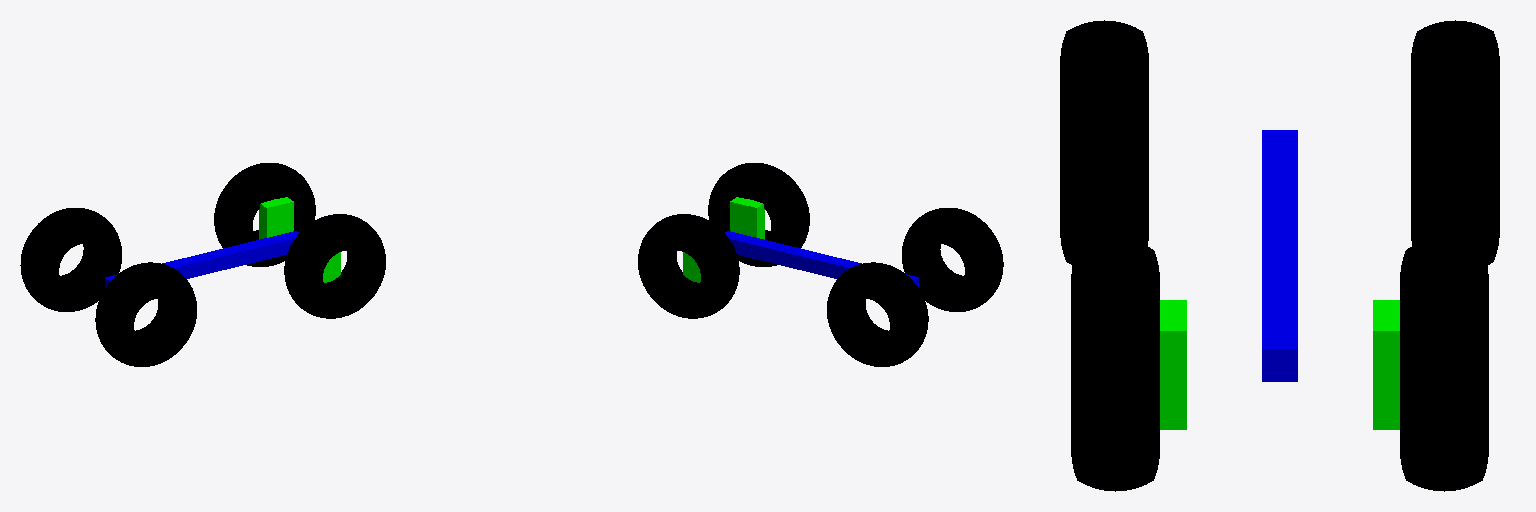
URDF robot description (quad):
<?xml version="1.0" ?>
<!-- =================================================================================== -->
<!-- |    This document was autogenerated by xacro from quad.xacro                     | -->
<!-- |    EDITING THIS FILE BY HAND IS NOT RECOMMENDED                                 | -->
<!-- =================================================================================== -->
<robot name="quad" xmlns:xacro="http://www.ros.org/wiki/xacro">
  <!--  -->
  xacro:include filename=&quot;/opt/ros/kinetic/share/hector_sensors_description/urdf/hokuyo_utm30lx.urdf.xacro&quot;/--&gt;
	
  <!-- This file unifies all sensors that can be used on simulation, defined as xacro:macros -->
  <material name="aluminum">
    <color rgba="0.5 0.5 0.5 1"/>
  </material>
  <!--xacro:include filename="$(find hector_sensors_description)/urdf/generic_camera.urdf.xacro"/-->
  <!-- Physical Material Macros -->
  <material name="Red">
    <color rgba="1.0 0 0 1.0"/>
  </material>
  <material name="Green">
    <color rgba="0 1.0 0 1.0"/>
  </material>
  <material name="Blue">
    <color rgba="0 0 1.0 0.5"/>
  </material>
  <material name="Black">
    <color rgba="0 0 0 1.0"/>
  </material>
  <material name="Aqua">
    <color rgba="0 255 255 1.0"/>
  </material>
  <gazebo>
    <plugin filename="libgazebo_ros_control.so" name="gazebo_ros_control">
      <robotNamespace>/quad</robotNamespace>
    </plugin>
  </gazebo>
  <link name="base_footprint">
    <visual>
      <origin rpy="0 0 0" xyz="0 0 0"/>
      <geometry>
        <box size="0.001 0.001 0.001"/>
      </geometry>
    </visual>
  </link>
  <joint name="base_footprint_joint" type="fixed">
    <origin rpy="0 0 0" xyz="-0.707 0 -0.173"/>
    <!-- height is the clearance -->
    <parent link="base_footprint"/>
    <child link="base_link"/>
  </joint>
  <!-- base_link must have geometry so that its axes can be displayed in rviz. -->
  <!-- Chassis -->
  <link name="base_link">
    <inertial>
      <mass value="0.270"/>
      <origin rpy="0 0 0" xyz="0 0 0"/>
      <inertia ixx="2.632e-4" ixy="0" ixz="0" iyy="2.632e-4" iyz="0" izz="1.62e-4"/>
    </inertial>
    <visual>
      <origin rpy="0 0 0" xyz="-0.3535 0 0"/>
      <geometry>
        <box size="0.707 0.05 0.05"/>
      </geometry>
      <material name="Blue"/>
    </visual>
    <collision>
      <origin rpy="0 0 0" xyz="-0.3535 0 0"/>
      <geometry>
        <box size="0.707 0.05 0.05"/>
      </geometry>
    </collision>
  </link>
  <gazebo reference="base_link">
    <material>Gazebo/Blue</material>
  </gazebo>
  <!-- Base footprint is on the ground under the robot -->
  <!--link name="base_footprint"/>
	 <joint name="base_footprint_joint" type="fixed">
	  <origin xyz="${-wheelbase} 0 ${-wheelRadius}" rpy="0 0 0" />
	  <parent link="base_link" />
	  <child link="base_footprint" />
	 </joint-->
  <!-- IMU -->
  <link name="imu_link"/>
  <joint name="imu_joint" type="fixed">
    <origin rpy="0 0 0" xyz="-0.3535 0 0"/>
    <parent link="base_link"/>
    <child link="imu_link"/>
  </joint>
  <!-- Camera -->
  <link name="camera_link"/>
  <joint name="camera_joint" type="fixed">
    <origin rpy="0 0 0" xyz="0 0 0.2"/>
    <parent link="base_link"/>
    <child link="camera_link"/>
  </joint>
  <joint name="RL_wheel_joint" type="continuous">
    <axis xyz="0 1 0"/>
    <parent link="base_link"/>
    <child link="RL_wheel"/>
    <origin rpy="0 0 0" xyz="-0.707 0.24 0"/>
  </joint>
  <link name="RL_wheel">
    <inertial>
      <mass value="0.270"/>
      <origin rpy="0 0 0" xyz="0 0 0"/>
      <inertia ixx="2.632e-4" ixy="0" ixz="0" iyy="2.632e-4" iyz="0" izz="1.62e-4"/>
    </inertial>
    <visual>
      <origin rpy="0 0 1.57079633" xyz="0 0 0"/>
      <geometry>
        <mesh filename="package://quad_description/meshes/Tyre_13x5-6.STL"/>
      </geometry>
      <material name="Black"/>
    </visual>
    <collision>
      <origin rpy="1.57079633 0 0" xyz="0 0 0"/>
      <geometry>
        <cylinder length="0.122" radius="0.173"/>
      </geometry>
    </collision>
  </link>
  <gazebo reference="RL_wheel">
    <material>Gazebo/Black</material>
  </gazebo>
  <joint name="RR_wheel_joint" type="continuous">
    <axis xyz="0 1 0"/>
    <parent link="base_link"/>
    <child link="RR_wheel"/>
    <origin rpy="0 0 0" xyz="-0.707 -0.24 0"/>
  </joint>
  <link name="RR_wheel">
    <inertial>
      <mass value="0.270"/>
      <origin rpy="0 0 0" xyz="0 0 0"/>
      <inertia ixx="2.632e-4" ixy="0" ixz="0" iyy="2.632e-4" iyz="0" izz="1.62e-4"/>
    </inertial>
    <visual>
      <origin rpy="0 0 1.57079633" xyz="0 0 0"/>
      <geometry>
        <mesh filename="package://quad_description/meshes/Tyre_13x5-6.STL"/>
      </geometry>
      <material name="Black"/>
    </visual>
    <collision>
      <origin rpy="1.57079633 0 0" xyz="0 0 0"/>
      <geometry>
        <cylinder length="0.122" radius="0.173"/>
      </geometry>
    </collision>
  </link>
  <gazebo reference="RR_wheel">
    <material>Gazebo/Black</material>
  </gazebo>
  <joint name="FL_upright_joint" type="revolute">
    <limit effort="100" lower="-0.5" upper="0.5" velocity="10"/>
    <axis xyz="0 0 1"/>
    <parent link="base_link"/>
    <child link="FL_upright"/>
    <origin rpy="0 0 0" xyz="0 0.1525 0"/>
  </joint>
  <link name="FL_upright">
    <inertial>
      <mass value="0.270"/>
      <origin rpy="0 0 0" xyz="0 0 0"/>
      <inertia ixx="2.632e-4" ixy="0" ixz="0" iyy="2.632e-4" iyz="0" izz="1.62e-4"/>
    </inertial>
    <visual>
      <origin xyz="0 0 0"/>
      <geometry>
        <box size="0.1 0.05 0.15"/>
      </geometry>
      <material name="Green"/>
    </visual>
    <!--collision>
            <origin xyz="0 0 0" />
            <geometry>
                <box size="0.1 0.05 0.15" />
            </geometry>
        </collision-->
  </link>
  <joint name="FL_wheel_joint" type="continuous">
    <axis xyz="0 1 0"/>
    <parent link="FL_upright"/>
    <child link="FL_wheel"/>
    <origin rpy="0 0 0" xyz="0 0.0725 0"/>
  </joint>
  <link name="FL_wheel">
    <inertial>
      <mass value="0.270"/>
      <origin rpy="0 0 0" xyz="0 0 0"/>
      <inertia ixx="2.632e-4" ixy="0" ixz="0" iyy="2.632e-4" iyz="0" izz="1.62e-4"/>
    </inertial>
    <visual>
      <origin rpy="0 0 1.57079633" xyz="0 0 0"/>
      <geometry>
        <mesh filename="package://quad_description/meshes/Tyre_13x5-6.STL"/>
      </geometry>
      <material name="Black"/>
    </visual>
    <collision>
      <origin rpy="1.57079633 0 0" xyz="0 0 0"/>
      <geometry>
        <cylinder length="0.122" radius="0.173"/>
      </geometry>
    </collision>
  </link>
  <gazebo reference="FL_wheel">
    <material>Gazebo/Black</material>
  </gazebo>
  <joint name="FR_upright_joint" type="revolute">
    <limit effort="100" lower="-0.5" upper="0.5" velocity="10"/>
    <axis xyz="0 0 1"/>
    <parent link="base_link"/>
    <child link="FR_upright"/>
    <origin rpy="0 0 0" xyz="0 -0.1525 0"/>
  </joint>
  <link name="FR_upright">
    <inertial>
      <mass value="0.270"/>
      <origin rpy="0 0 0" xyz="0 0 0"/>
      <inertia ixx="2.632e-4" ixy="0" ixz="0" iyy="2.632e-4" iyz="0" izz="1.62e-4"/>
    </inertial>
    <visual>
      <origin xyz="0 0 0"/>
      <geometry>
        <box size="0.1 0.05 0.15"/>
      </geometry>
      <material name="Green"/>
    </visual>
    <!--collision>
            <origin xyz="0 0 0" />
            <geometry>
                <box size="0.1 0.05 0.15" />
            </geometry>
        </collision-->
  </link>
  <joint name="FR_wheel_joint" type="continuous">
    <axis xyz="0 1 0"/>
    <parent link="FR_upright"/>
    <child link="FR_wheel"/>
    <origin rpy="0 0 0" xyz="0 -0.0725 0"/>
  </joint>
  <link name="FR_wheel">
    <inertial>
      <mass value="0.270"/>
      <origin rpy="0 0 0" xyz="0 0 0"/>
      <inertia ixx="2.632e-4" ixy="0" ixz="0" iyy="2.632e-4" iyz="0" izz="1.62e-4"/>
    </inertial>
    <visual>
      <origin rpy="0 0 1.57079633" xyz="0 0 0"/>
      <geometry>
        <mesh filename="package://quad_description/meshes/Tyre_13x5-6.STL"/>
      </geometry>
      <material name="Black"/>
    </visual>
    <collision>
      <origin rpy="1.57079633 0 0" xyz="0 0 0"/>
      <geometry>
        <cylinder length="0.122" radius="0.173"/>
      </geometry>
    </collision>
  </link>
  <gazebo reference="FR_wheel">
    <material>Gazebo/Black</material>
  </gazebo>
  <transmission name="FR_steering_trans">
    <type>transmission_interface/SimpleTransmission</type>
    <joint name="FR_upright_joint">
      <hardwareInterface>hardware_interface/EffortJointInterface</hardwareInterface>
    </joint>
    <actuator name="FR_steering_act">
      <mechanicalReduction>1</mechanicalReduction>
    </actuator>
  </transmission>
  <transmission name="FL_steering_trans">
    <type>transmission_interface/SimpleTransmission</type>
    <joint name="FL_upright_joint">
      <hardwareInterface>hardware_interface/EffortJointInterface</hardwareInterface>
    </joint>
    <actuator name="FL_steering_act">
      <mechanicalReduction>1</mechanicalReduction>
    </actuator>
  </transmission>
  <transmission name="RR_wheel_axle_trans">
    <type>transmission_interface/SimpleTransmission</type>
    <joint name="RR_wheel_joint">
      <hardwareInterface>hardware_interface/VelocityJointInterface</hardwareInterface>
    </joint>
    <actuator name="RR_wheel_axle_act">
      <mechanicalReduction>1</mechanicalReduction>
    </actuator>
  </transmission>
  <transmission name="RL_wheel_axle_trans">
    <type>transmission_interface/SimpleTransmission</type>
    <joint name="RL_wheel_joint">
      <hardwareInterface>hardware_interface/VelocityJointInterface</hardwareInterface>
    </joint>
    <actuator name="RL_wheel_axle_act">
      <mechanicalReduction>1</mechanicalReduction>
    </actuator>
  </transmission>
  <transmission name="FR_wheel_axle_trans">
    <type>transmission_interface/SimpleTransmission</type>
    <joint name="FR_wheel_joint">
      <hardwareInterface>hardware_interface/VelocityJointInterface</hardwareInterface>
    </joint>
    <actuator name="FR_wheel_axle_act">
      <mechanicalReduction>1</mechanicalReduction>
    </actuator>
  </transmission>
  <transmission name="FL_wheel_axle_trans">
    <type>transmission_interface/SimpleTransmission</type>
    <joint name="FL_wheel_joint">
      <hardwareInterface>hardware_interface/VelocityJointInterface</hardwareInterface>
    </joint>
    <actuator name="FL_wheel_axle_act">
      <mechanicalReduction>1</mechanicalReduction>
    </actuator>
  </transmission>
  <!--hokuyo_utm30lx_model name="hokuyo_laser" parent="base_link">
     <origin xyz="+0.222 0 0.003" rpy="0 0 0" />
    </hokuyo_utm30lx_model-->
  <joint name="hokuyo_base_joint" type="fixed">
    <!-- FRONT MOUNT  -->
    <!-- origin xyz="0.29 0 0.1" -->
    <!-- TOP MOUNT -->
    <!-- origin xyz="0.0 0.0 0.325"-->
    <origin rpy="0 0 0" xyz="+0.222 0 0.003"/>
    <parent link="base_link"/>
    <child link="hokuyo_base_link"/>
  </joint>
  <link name="hokuyo_base_link">
    <visual>
      <origin rpy="0 0 0" xyz="0 0 0"/>
      <geometry>
        <mesh filename="package://robotnik_sensors/meshes/hokuyo_utm_30lx.dae"/>
      </geometry>
    </visual>
    <inertial>
      <mass value="1e-5"/>
      <origin rpy="0 0 0" xyz="0 0 0"/>
      <inertia ixx="1e-6" ixy="0" ixz="0" iyy="1e-6" iyz="0" izz="1e-6"/>
    </inertial>
  </link>
  <link name="hokuyo_link">
	</link>
  <joint name="hokuyo_joint" type="fixed">
    <parent link="hokuyo_base_link"/>
    <child link="hokuyo_link"/>
    <origin rpy="0 0 0" xyz="0.00 0 0.055"/>
  </joint>
  <gazebo reference="hokuyo_link">
    <sensor name="hokuyo_sensor" type="ray">
      <pose>0 0 0 0 0 0</pose>
      <visualize>false</visualize>
      <update_rate>30</update_rate>
      <ray>
        <scan>
          <horizontal>
            <samples>1081</samples>
            <resolution>1</resolution>
            <min_angle>-1.57</min_angle>
            <max_angle>1.57</max_angle>
          </horizontal>
        </scan>
        <range>
          <min>0.10</min>
          <max>30.0</max>
          <resolution>0.01</resolution>
        </range>
        <noise>
          <type>gaussian</type>
          <mean>0.0</mean>
          <stddev>0.01</stddev>
        </noise>
      </ray>
      <plugin filename="libgazebo_ros_laser.so" name="hokuyo_controller">
        <topicName>front_laser/scan</topicName>
        <frameName>/hokuyo_link</frameName>
      </plugin>
    </sensor>
  </gazebo>
  <!-- ANTENNA GPS -->
  <joint name="gps_joint" type="fixed">
    <axis xyz="0 1 0"/>
    <origin rpy="0 0 0" xyz="-0.15 0 0.5"/>
    <parent link="base_link"/>
    <child link="gps_base_link"/>
  </joint>
  <link name="gps_base_link">
    <inertial>
      <mass value="0.001"/>
      <origin rpy="0 0 0" xyz="0 0 0"/>
      <inertia ixx="0.0001" ixy="0" ixz="0" iyy="0.000001" iyz="0" izz="0.0001"/>
    </inertial>
    <visual>
      <origin rpy="0 0 0" xyz="0 0 0"/>
      <material name="gps_color">
        <color rgba="1 1 1 1"/>
      </material>
      <geometry>
        <mesh filename="package://robotnik_sensors/meshes/antenna_3GO16.stl" scale="1.0 1.0 1.0"/>
      </geometry>
    </visual>
    <collision>
      <origin rpy="0 0 0" xyz="0 0 0"/>
      <geometry>
        <mesh filename="package://robotnik_sensors/meshes/antenna_3GO16.stl" scale="1.0 1.0 1.0"/>
      </geometry>
    </collision>
  </link>
  <gazebo reference="gps_base_link">
    <material>Gazebo/White</material>
    <gravity>true</gravity>
  </gazebo>
  <gazebo>
    <plugin filename="libhector_gazebo_ros_gps.so" name="gps_controller">
      <alwaysOn>1</alwaysOn>
      <updateRate>5</updateRate>
      <bodyName>gps_base_link</bodyName>
      <!-- must be the link of the gps device, not the base_link or base_footprint -->
      <frameId>/gps_base_link</frameId>
      <topicName>fix</topicName>
      <!-- Robotnik position at Fuente del Jarro -->
      <referenceLatitude>39.5080331</referenceLatitude>
      <referenceLongitude>-0.4619816</referenceLongitude>
      <!-- To set heading in ENU orientation (degrees) -->
      <referenceHeading>90</referenceHeading>
      <velocityTopicName>fix_velocity</velocityTopicName>
      <drift>0.0 0.0 0.0</drift>
      <!--<drift>0.0001 0.0001 0.0001</drift>-->
      <!--<drift>0.3 0.3 0.3</drift>-->
      <gaussianNoise>0.1 0.1 0.1</gaussianNoise>
      <!--<gaussianNoise>0.00001 0.00001 0.00001</gaussianNoise>-->
      <velocityDrift>0.00001 0.00001 0.00001</velocityDrift>
      <!--<velocityGaussianNoise>0.1 0.1 0.1</velocityGaussianNoise>-->
      <velocityGaussianNoise>0.00001 0.00001 0.00001</velocityGaussianNoise>
    </plugin>
  </gazebo>
  <!--generic_camera_model name="web_camera" parent="base_link">
     <origin xyz="0 0 0.01" rpy="0 0 0" />
  	</generic_camera_model-->
</robot>

--- Render facts (derived) ---
Views: 3 orthographic renders of the robot side by side, from view 1: azimuth 30°, elevation 25°; view 2: azimuth 150°, elevation 25°; view 3: azimuth 270°, elevation 25°.
Model quad with 13 links and 12 joints (2 revolute, 4 continuous, 6 fixed), rooted at base_footprint, posed every joint at zero.
Links seen in each view (by area): view 1: RR_wheel, FR_wheel, RL_wheel, FL_wheel, base_link, FL_upright; view 2: RL_wheel, FL_wheel, RR_wheel, FR_wheel, base_link, FR_upright; view 3: FL_wheel, FR_wheel, RL_wheel, RR_wheel, base_link, FL_upright, FR_upright.
Boxes of the visible links, box(x1,y1,x2,y2) form: RR_wheel: box(95, 262, 196, 366); FR_wheel: box(284, 214, 385, 318); RL_wheel: box(20, 208, 121, 311); FL_wheel: box(214, 163, 315, 266); base_link: box(105, 231, 298, 287); FL_upright: box(259, 197, 293, 239); RL_wheel: box(827, 262, 928, 366); FL_wheel: box(638, 214, 739, 318); RR_wheel: box(902, 208, 1003, 311); FR_wheel: box(708, 163, 809, 266); base_link: box(725, 231, 918, 287); FR_upright: box(730, 197, 764, 239); FL_wheel: box(1400, 239, 1488, 491); FR_wheel: box(1071, 239, 1159, 491); RL_wheel: box(1411, 20, 1499, 265); RR_wheel: box(1060, 20, 1148, 265); base_link: box(1262, 130, 1297, 381); FL_upright: box(1373, 300, 1399, 429); FR_upright: box(1160, 300, 1186, 429).
Bounding box of the posed robot: 1.59 × 0.602 × 0.3465 m (x, y, z).
Meshes: 3 distinct files referenced, 4 mesh visuals loaded (1 binary STL); not drawn: 2 (reference not matched to a file when rendering).